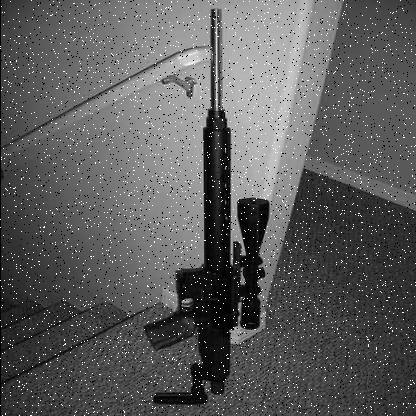rifle: (121, 6, 279, 406)
